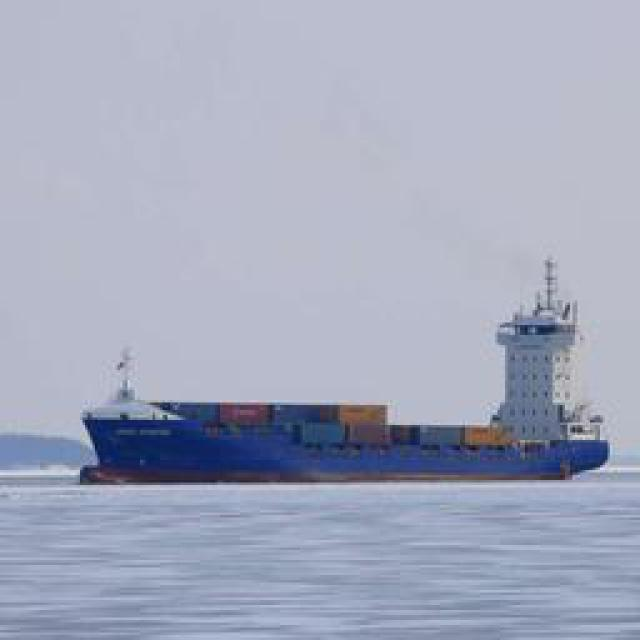Ship: (85, 347, 613, 487)
